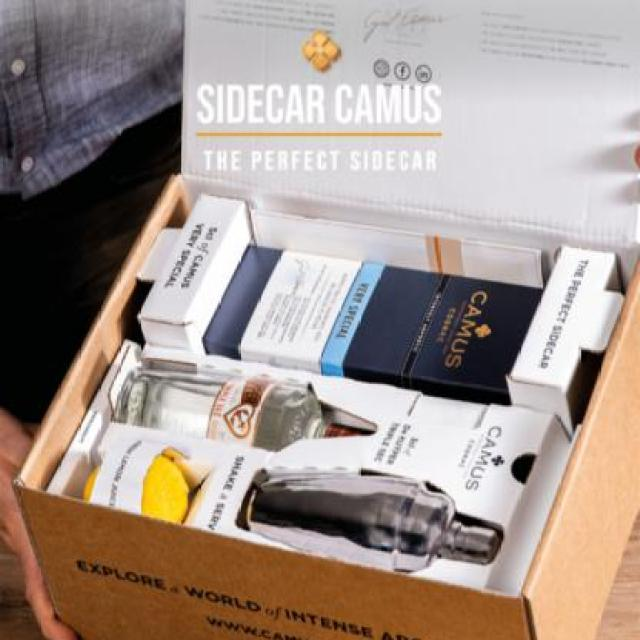box: (11, 175, 632, 640)
